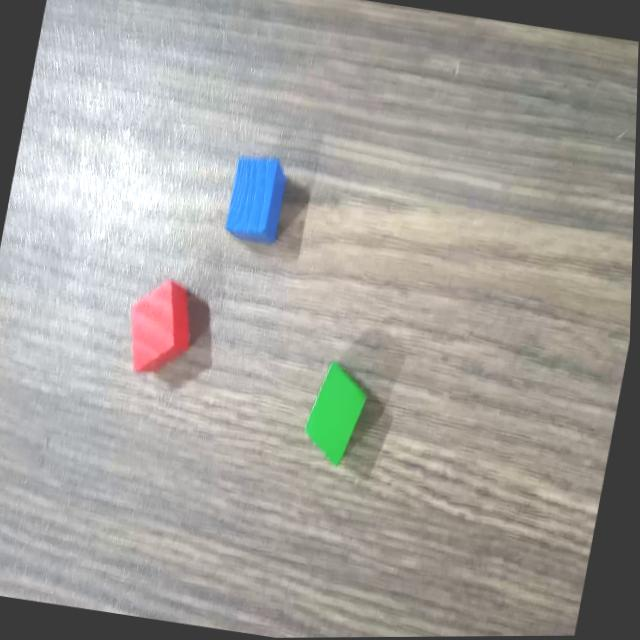cube: (117, 273, 205, 385), (296, 356, 378, 475), (219, 147, 295, 250)
